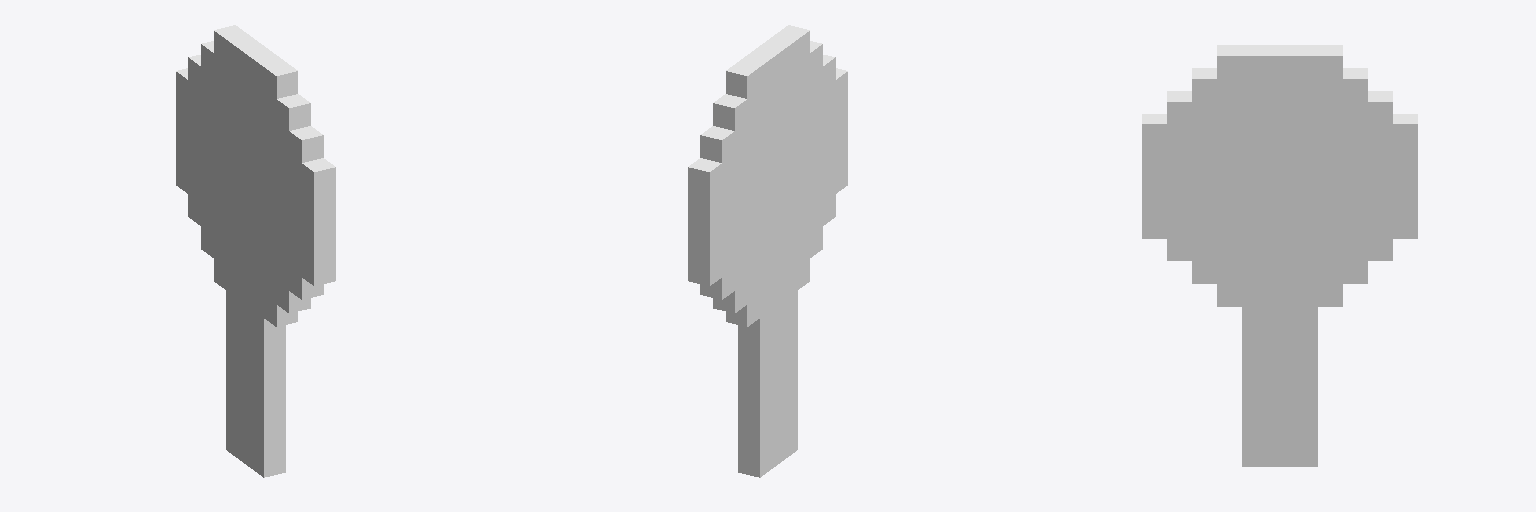
Rendered from O_Sign.obj.
The picture shows the model from 3 angles: view 1: azimuth 30°, elevation 25°; view 2: azimuth 150°, elevation 25°; view 3: azimuth 270°, elevation 25°; orthographic projection.
Bounding box in the file's own units: 1 × 18 × 11.